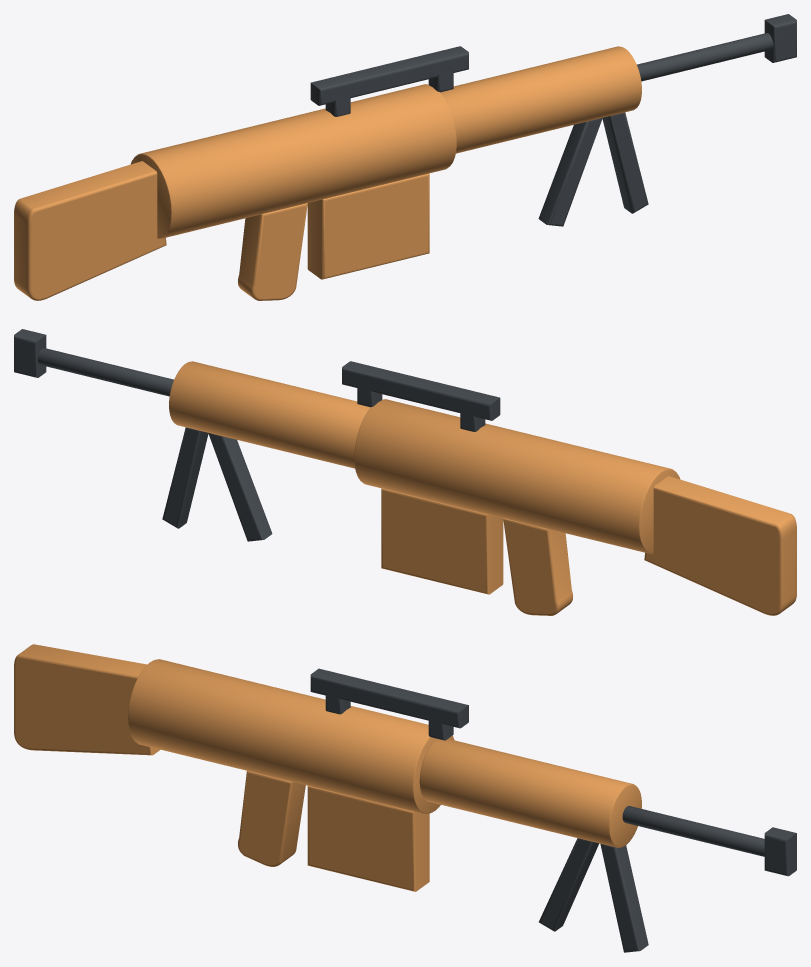
File: negev.glb
3 renders of one model, top to bottom at view 1: azimuth 30°, elevation 25°; view 2: azimuth 150°, elevation 25°; view 3: azimuth 330°, elevation 25°, orthographic.
Parts seen in each view (by area): view 1: paint_1, paint_0, paint_5, paint_4, metal_8, paint_3, metal_2, metal_6, metal_7; view 2: paint_1, paint_0, paint_5, paint_4, metal_8, paint_3, metal_2, metal_6, metal_7; view 3: paint_1, paint_5, paint_0, paint_4, metal_8, paint_3, metal_2, metal_6, metal_7.
Part boxes in pixels (x1,y1,x2,y2): paint_1: (131, 84, 456, 239); paint_0: (14, 161, 166, 300); paint_5: (440, 46, 641, 153); paint_4: (307, 173, 429, 279); metal_8: (538, 112, 648, 226); paint_3: (238, 203, 307, 300); metal_2: (310, 46, 468, 116); metal_6: (637, 33, 773, 81); metal_7: (764, 14, 796, 62); paint_1: (354, 399, 679, 554); paint_0: (644, 476, 796, 615); paint_5: (169, 361, 370, 468); paint_4: (381, 488, 503, 594); metal_8: (162, 427, 272, 541); paint_3: (503, 518, 572, 615); metal_2: (342, 361, 500, 431); metal_6: (37, 348, 173, 396); metal_7: (14, 329, 46, 377); paint_1: (128, 659, 454, 814); paint_5: (419, 739, 641, 847); paint_0: (14, 644, 160, 755); paint_4: (307, 785, 429, 891); metal_8: (539, 838, 648, 952); paint_3: (238, 771, 305, 866); metal_2: (310, 668, 468, 740); metal_6: (622, 806, 764, 856); metal_7: (764, 827, 796, 876).
Bounding box in the file's own units: 405 × 101 × 40.
